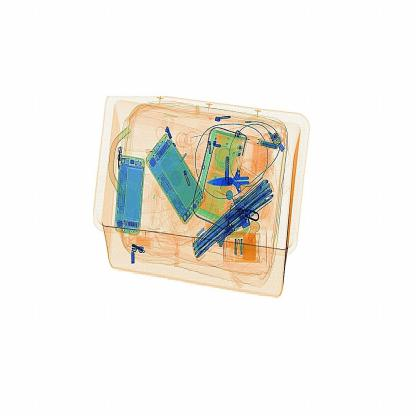gun: (203, 154, 261, 206)
